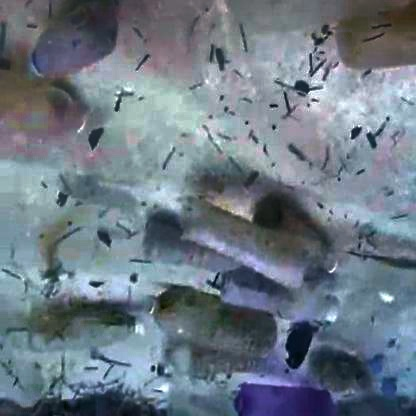pbottle: (121, 264, 303, 369), (159, 191, 326, 299), (26, 12, 142, 98), (29, 290, 158, 363), (229, 354, 368, 416), (24, 87, 122, 168), (328, 8, 416, 81), (123, 216, 230, 272)
